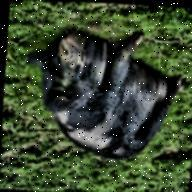boar: (15, 16, 192, 175)
